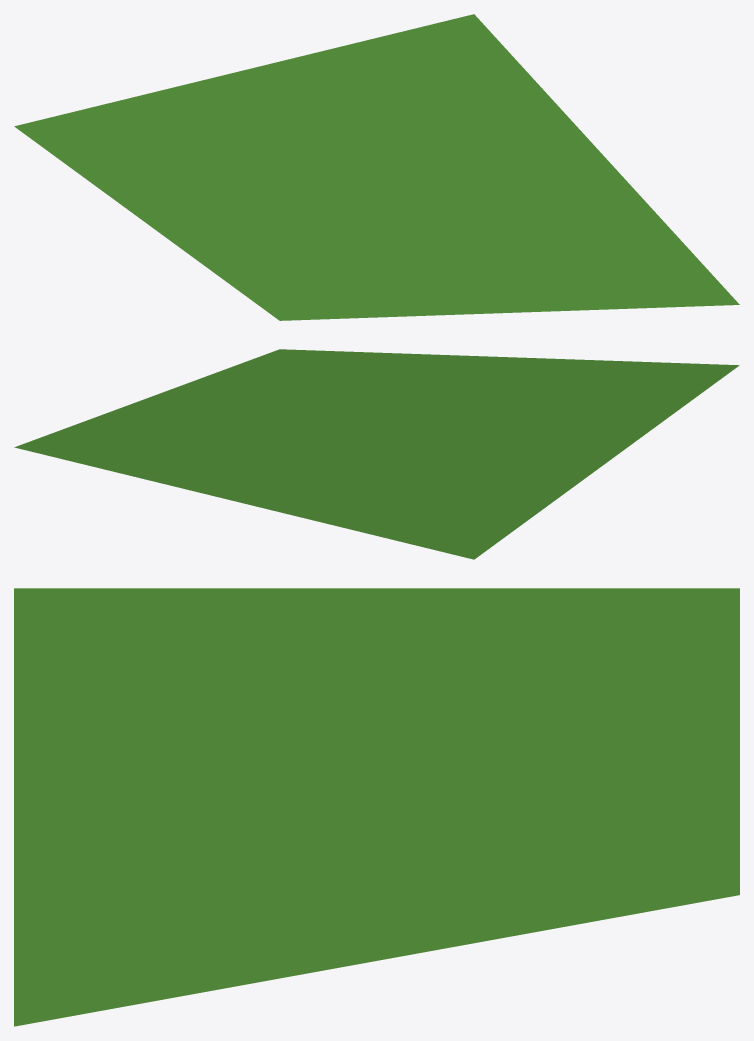
Rendered from tiles-nb-tile-hill-valley-nb.glb.
3 renders of one model, top to bottom at view 1: azimuth 30°, elevation 25°; view 2: azimuth 150°, elevation 25°; view 3: azimuth 270°, elevation 25°, orthographic. The views are drawn at different scales.
Visible parts, largest first — view 1: tile-hill-valley-nb; view 2: tile-hill-valley-nb; view 3: tile-hill-valley-nb.
Part boxes in pixels (bbox=[...]): tile-hill-valley-nb: bbox=[14, 14, 739, 320]; tile-hill-valley-nb: bbox=[14, 349, 739, 559]; tile-hill-valley-nb: bbox=[14, 588, 739, 1026].
Size of the model in its own units: 30 by 6 by 30.
